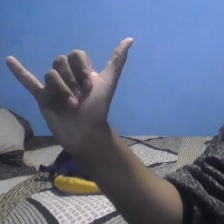Y: (4, 34, 139, 152)
